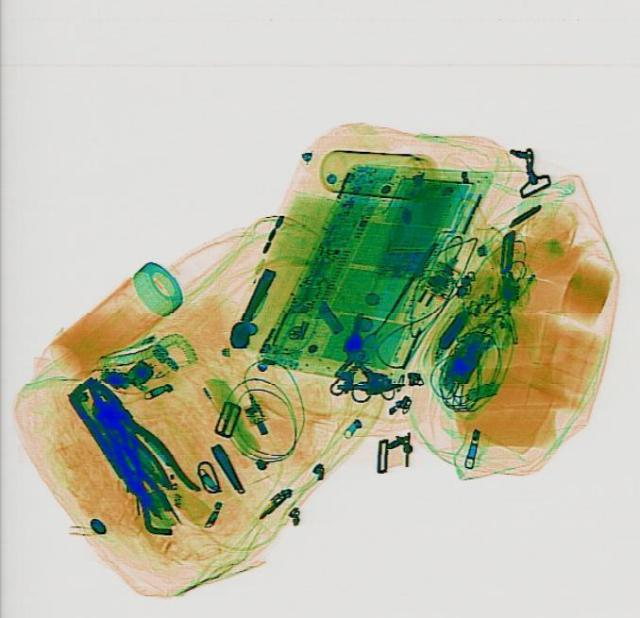Pliers: (72, 369, 200, 510)
